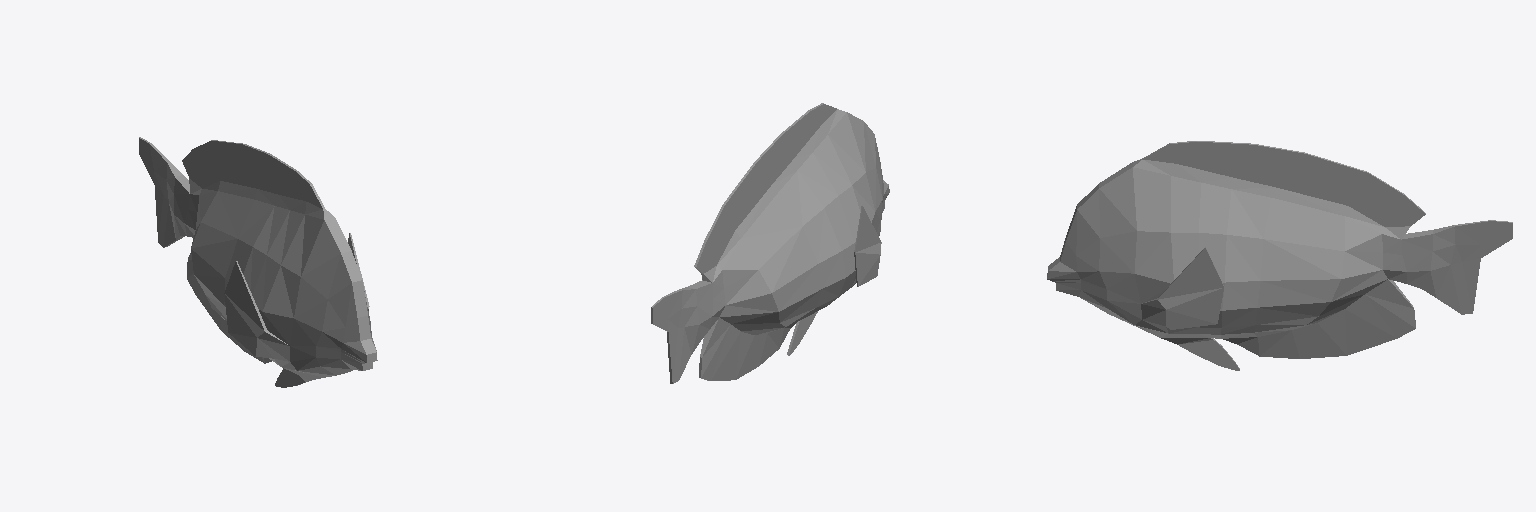
Rendered from TropicalFish04.obj.
3 renders of one model, left to right at view 1: azimuth 30°, elevation 25°; view 2: azimuth 150°, elevation 25°; view 3: azimuth 270°, elevation 25°, orthographic.
Parts seen in each view (by area): view 1: TropicalFish04; view 2: TropicalFish04; view 3: TropicalFish04.
Boxes of the visible parts, <box> form: TropicalFish04: <box>139,137,377,387</box>; TropicalFish04: <box>651,103,889,383</box>; TropicalFish04: <box>1047,141,1512,370</box>.
Size of the model in its own units: 135 by 248 by 456.